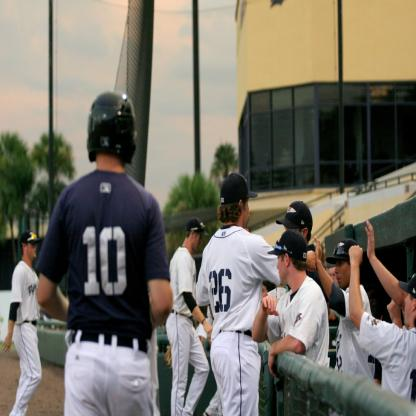Helmet: (80, 94, 136, 175)
